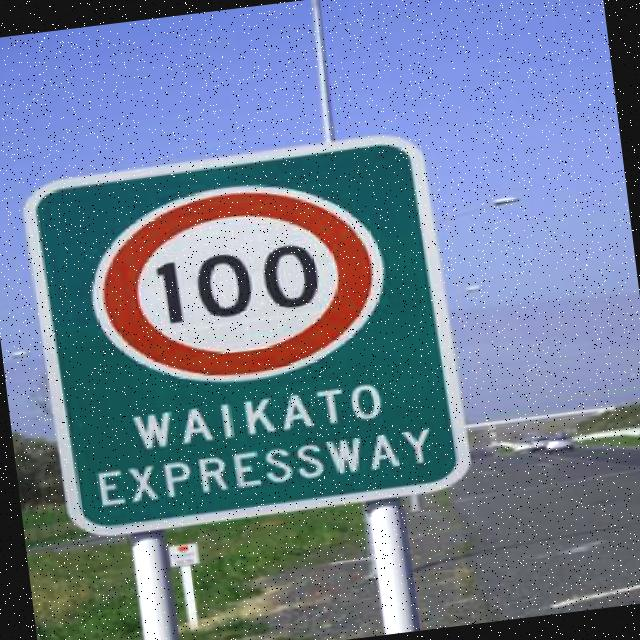Ograniczenie predkosci do 100: (84, 183, 386, 374)
